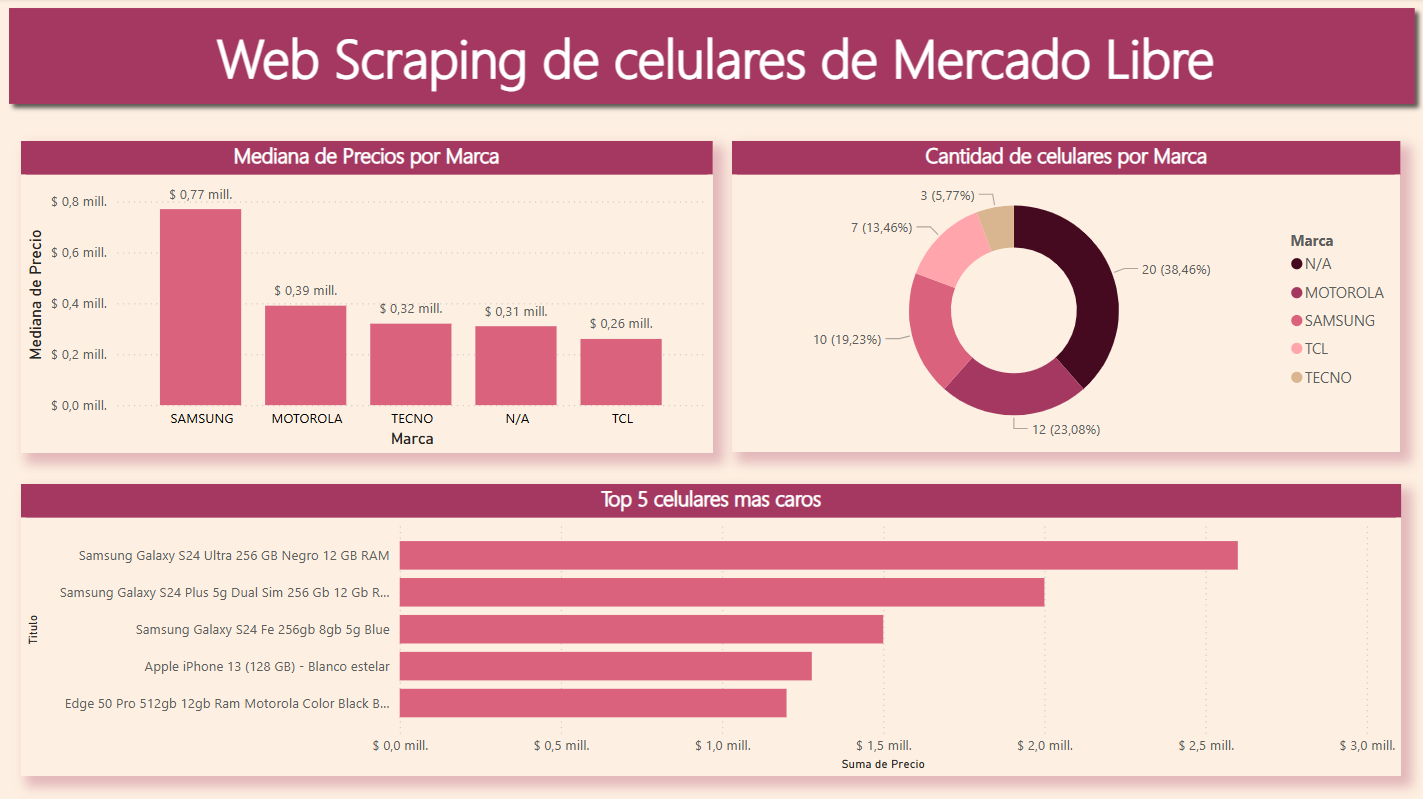

This screenshot's page, from the dashboard's own definition file:
{"tool":"powerbi","page":{"name":"Página 1","canvas":[1280,720],"ordinal":0},"visuals":[{"type":"columnChart","title":"Mediana de Precios por Marca","fields":{"Category":["celulares.Marca"],"Y":["Median(celulares.Precio)"]},"box":[19.5,128.4,620.5,280.1],"z":0},{"type":"shape","box":[0,0,1280,104.1],"z":1000},{"type":"textbox","box":[28.7,15.3,1229,73.6],"z":2000},{"type":"barChart","title":"Top 5 celulares mas caros ","fields":{"Category":["celulares.Titulo"],"Y":["Sum(celulares.Precio)"]},"box":[19.5,436.7,1239.1,261.6],"z":3000},{"type":"donutChart","title":"Cantidad de celulares por Marca","fields":{"Category":["celulares.Marca"],"Y":["CountNonNull(celulares.Titulo)"]},"box":[658.5,128.4,600.1,279.1],"z":4000}]}

Visuals, with their boxes in screenshot pixels (x1, y1, x2, y2), scaled from the page's 1280x720 canvas onto the 1423x799 screenshot:
"Mediana de Precios por Marca" columnChart: region(22, 142, 712, 453)
shape: region(0, 0, 1422, 116)
textbox: region(32, 17, 1398, 99)
"Top 5 celulares mas caros " barChart: region(22, 485, 1399, 775)
"Cantidad de celulares por Marca" donutChart: region(732, 142, 1399, 452)
